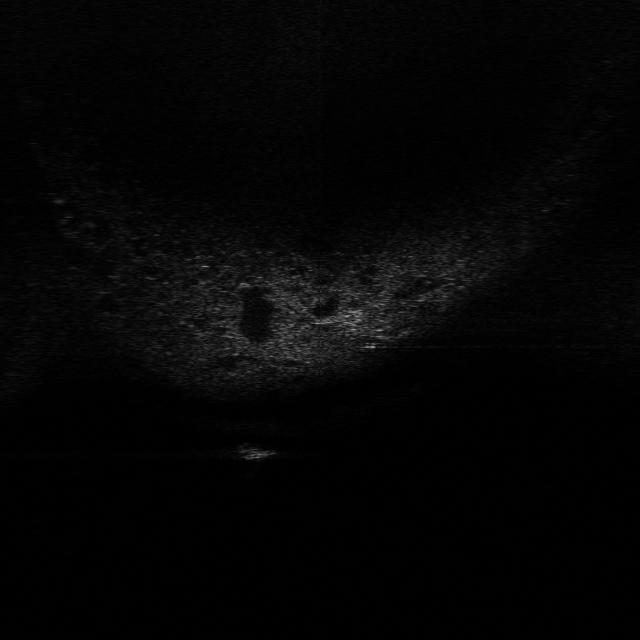cube: (230, 435, 284, 465)
